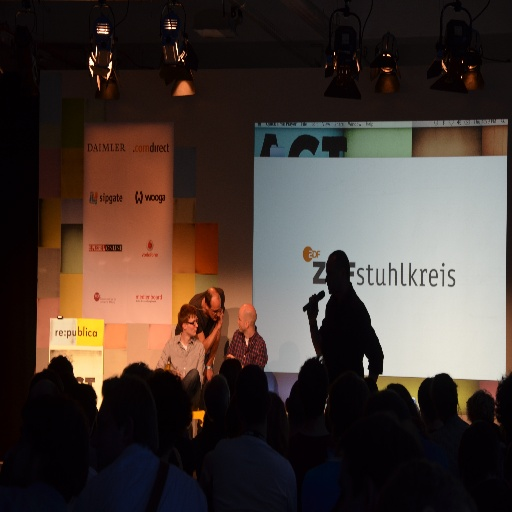hand: (307, 295, 318, 320), (203, 366, 214, 383), (216, 307, 224, 329), (226, 353, 234, 360)
